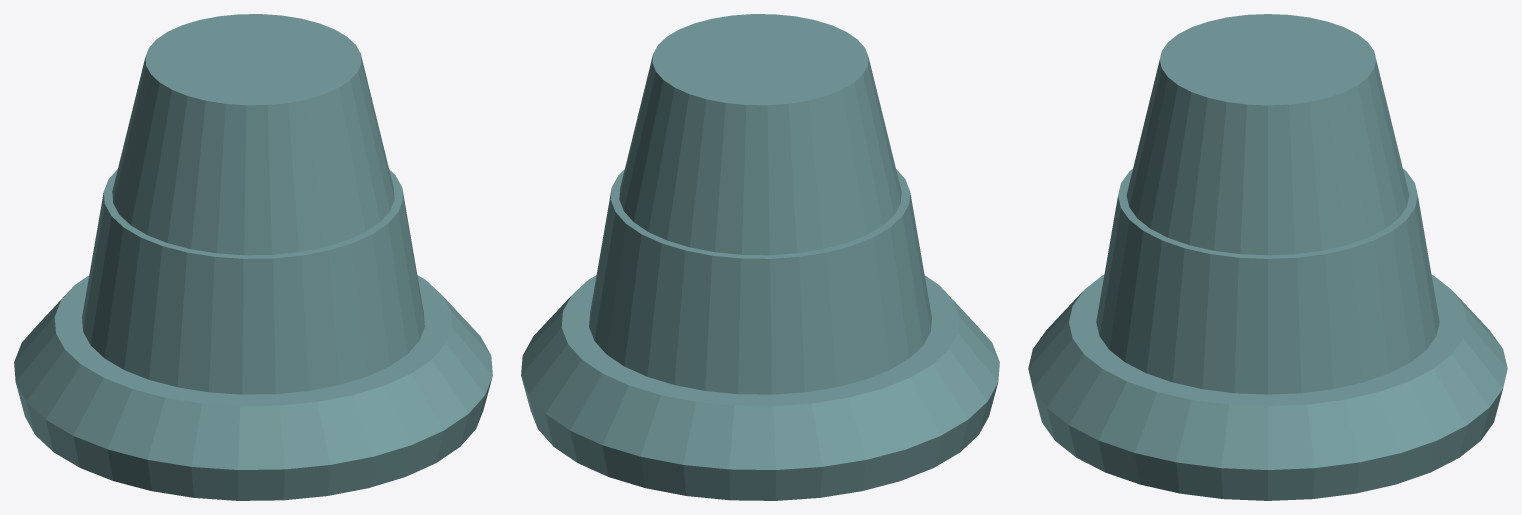
File: End Tube.fbx
The picture shows the model from 3 angles, left to right: view 1: azimuth 30°, elevation 25°; view 2: azimuth 150°, elevation 25°; view 3: azimuth 270°, elevation 25°; orthographic projection.
Visible parts, largest first — view 1: Cylinder; view 2: Cylinder; view 3: Cylinder.
Part boxes in pixels (<box>): Cylinder: <box>14,14,492,500</box>; Cylinder: <box>521,14,999,500</box>; Cylinder: <box>1028,14,1507,500</box>.
Size of the model in its own units: 183 by 145 by 183.
